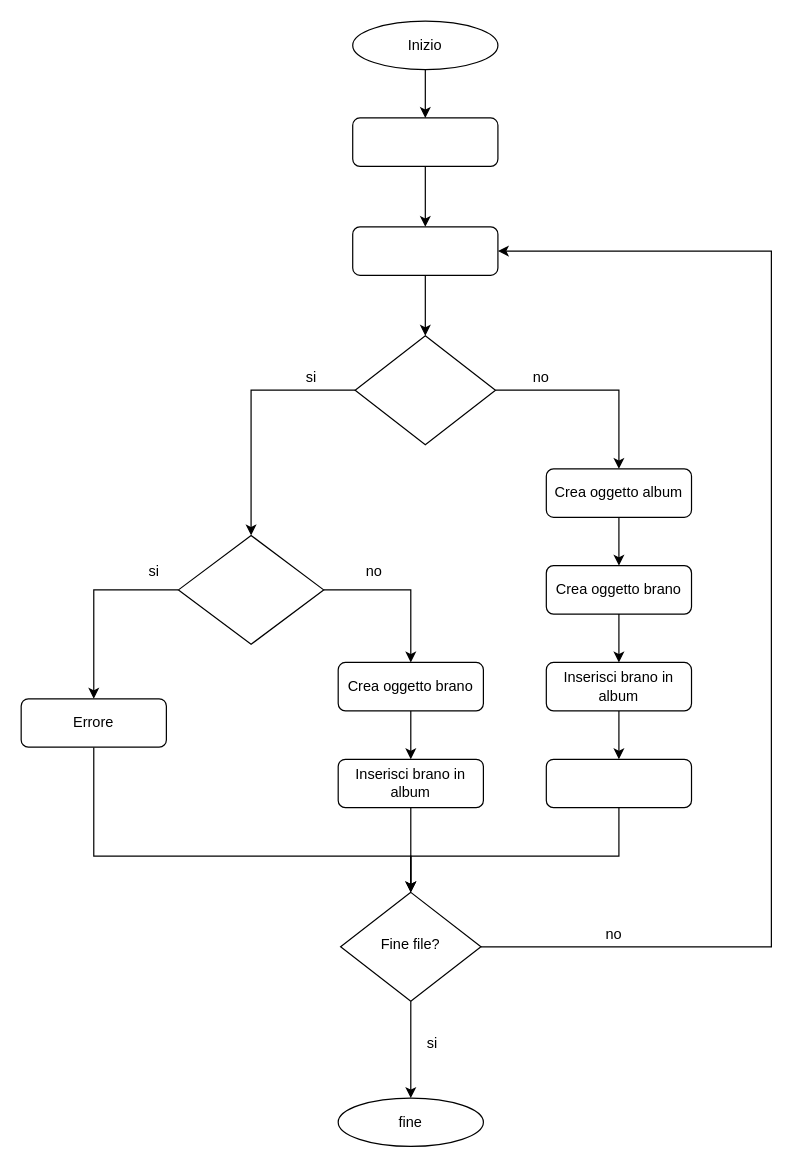
The diagram is 802 pixels wide and 1168 high, and some of its shapes have lost their labels. The shapes that lost their labels are listed below. From the top down, each one's centre as x and y in pixels, then its label:
At pixel 425 141: "Apro il file".
At pixel 425 250: "Leggi riga".
At pixel 424 390: "Album esiste?".
At pixel 250 589: "Brano esiste in album?".
At pixel 618 783: "Inserisci album in catalogo".
